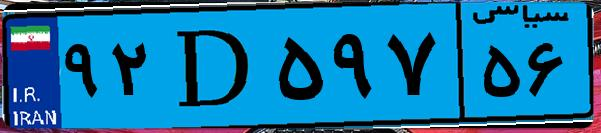2: (110, 28, 158, 98)
5: (270, 28, 330, 110), (475, 38, 525, 113)
6: (525, 38, 570, 115)
7: (385, 28, 445, 110)
9: (330, 28, 385, 110), (57, 26, 110, 100)
D: (158, 12, 270, 120)
